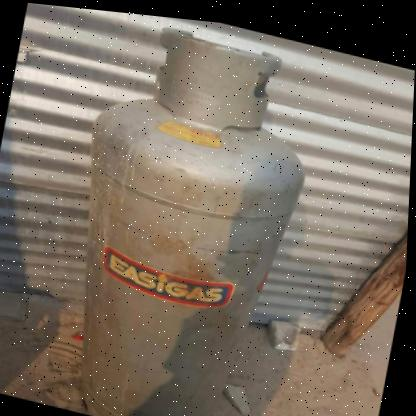gas-tank: (39, 4, 341, 415)
